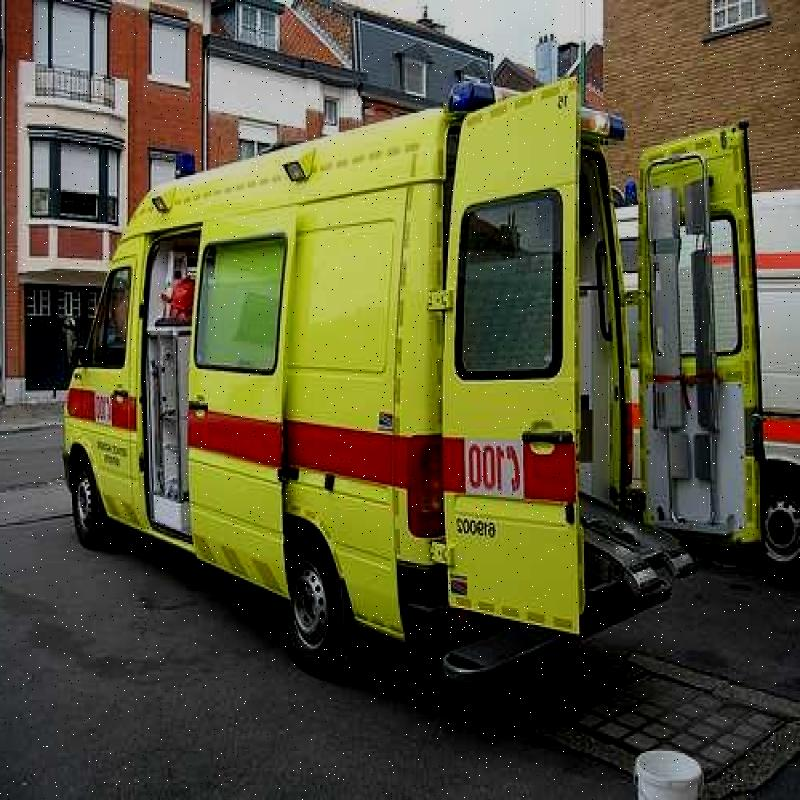AmbulanceSiren: (447, 64, 629, 132)
